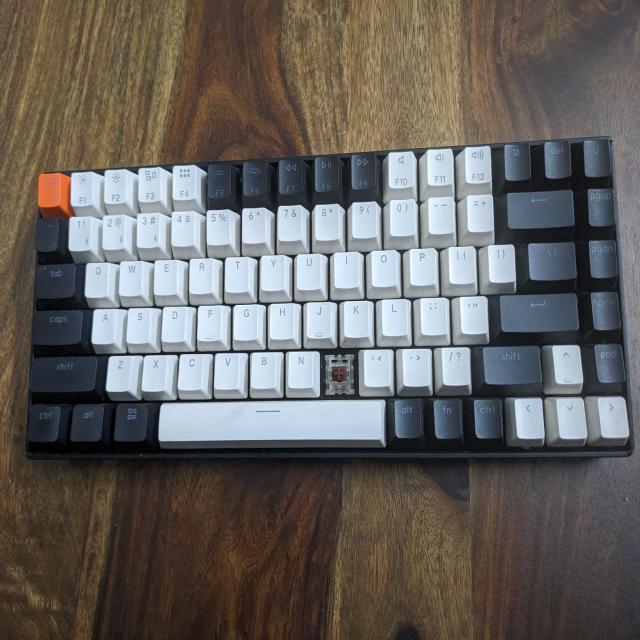C: (323, 351, 354, 393)
